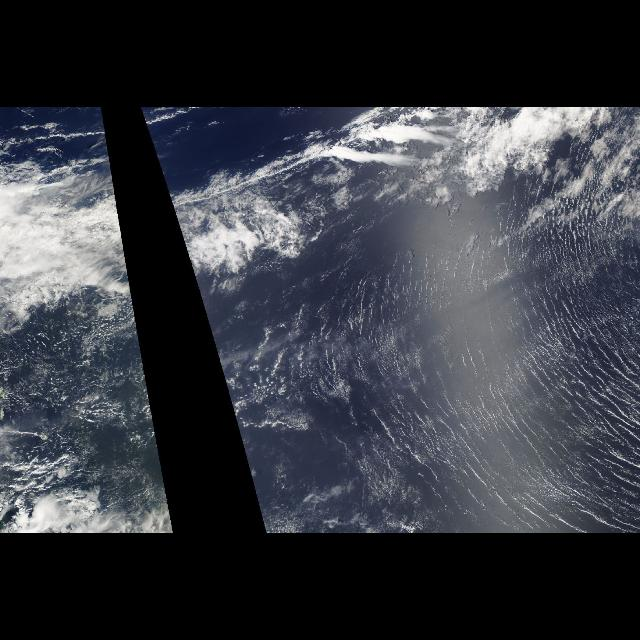Fish: (140, 111, 450, 285), (8, 111, 132, 285)
Gravel: (0, 298, 168, 502)
Sugar: (190, 209, 640, 533), (2, 312, 154, 488), (160, 453, 176, 533)
